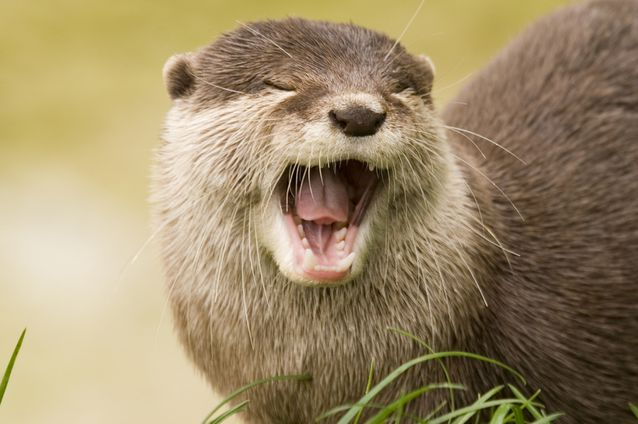otter: (129, 1, 636, 424)
